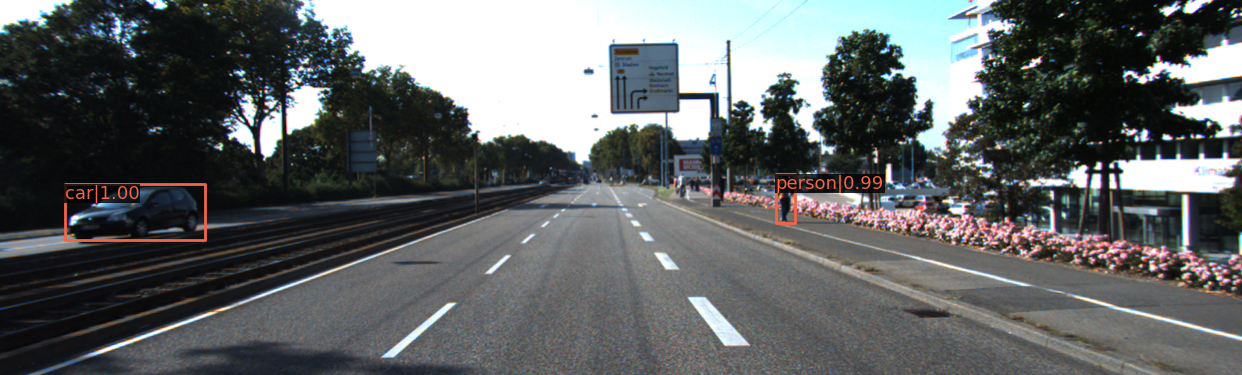car: (69, 186, 210, 244)
person: (775, 173, 794, 226)
